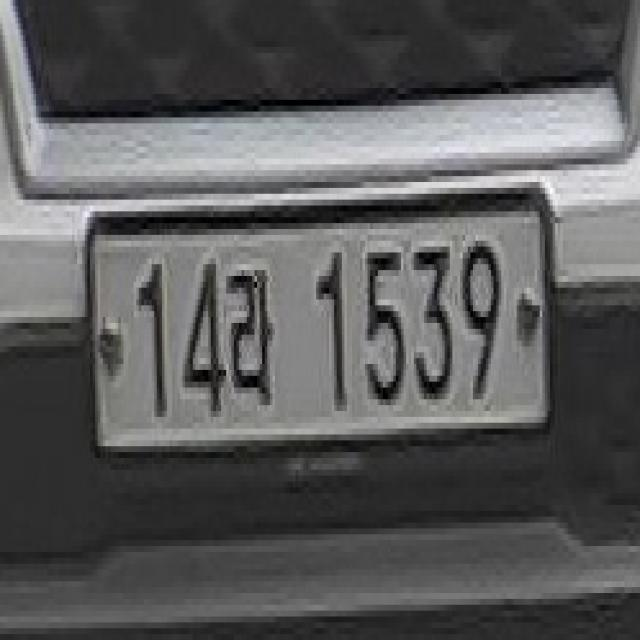1: (131, 246, 175, 434), (311, 235, 355, 423)
3: (406, 235, 458, 417)
4: (180, 247, 229, 440)
5: (363, 235, 406, 423)
9: (457, 235, 504, 417)
la: (228, 247, 278, 422)
license_plate: (85, 170, 560, 470)
